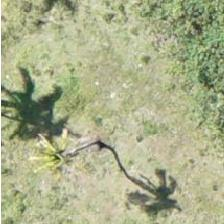Kelapa_Sawit: (7, 122, 97, 212)
